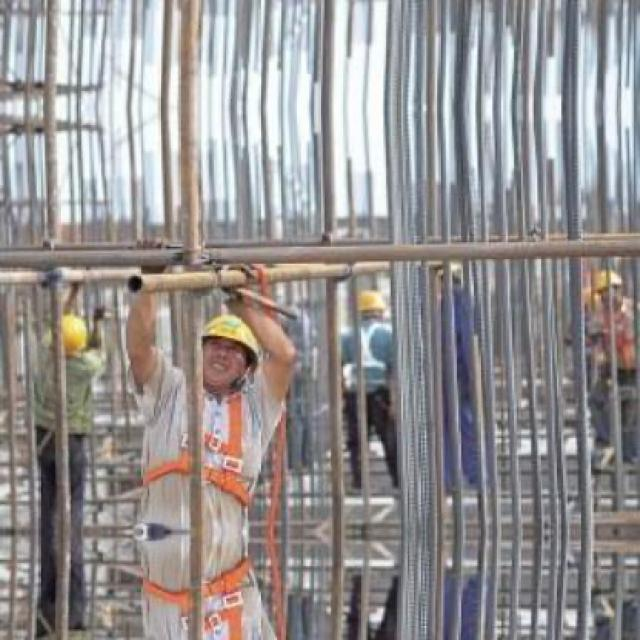helmet: (194, 308, 266, 392), (52, 308, 92, 364), (345, 286, 392, 326)
